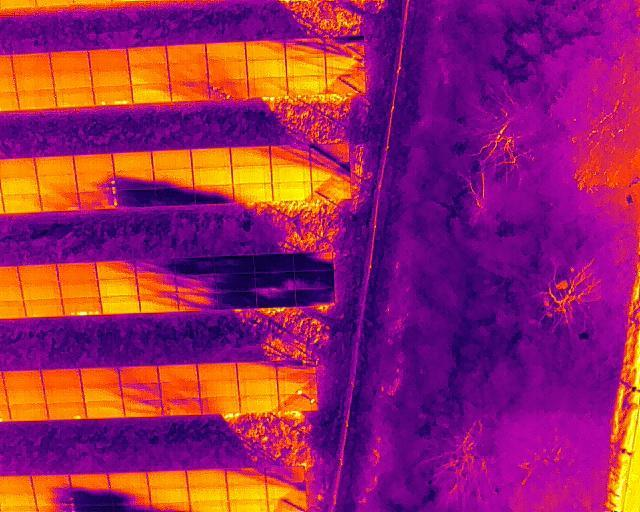Cell: (47, 403, 87, 420), (277, 379, 317, 395)
Cell-Multi: (93, 85, 133, 105), (63, 297, 101, 316), (278, 395, 318, 413)
No-Anomaly: (206, 59, 247, 79), (270, 182, 311, 202), (287, 76, 327, 96), (91, 66, 131, 86), (20, 281, 60, 301), (73, 154, 113, 174), (56, 87, 94, 108), (113, 152, 152, 172), (246, 58, 287, 77), (191, 148, 232, 167), (0, 158, 35, 180), (15, 71, 53, 91), (53, 67, 91, 87), (98, 277, 138, 296), (234, 184, 272, 204), (127, 46, 166, 65), (130, 64, 169, 83), (248, 77, 287, 96), (169, 63, 208, 82), (199, 380, 238, 399), (19, 264, 58, 283), (35, 157, 74, 176), (157, 365, 198, 383), (132, 84, 170, 103), (18, 90, 56, 109), (100, 295, 138, 314), (286, 58, 326, 76), (192, 167, 232, 185), (197, 364, 237, 382), (3, 371, 43, 389), (108, 471, 147, 489), (12, 54, 51, 72), (60, 279, 99, 297), (80, 368, 119, 386), (147, 470, 188, 487), (22, 299, 63, 316), (152, 152, 192, 169), (49, 51, 89, 68), (271, 166, 311, 183), (237, 363, 277, 380), (57, 262, 97, 279), (43, 387, 83, 404), (167, 44, 206, 61), (88, 50, 127, 67), (233, 166, 272, 183), (1, 195, 40, 212), (42, 370, 81, 387), (37, 176, 76, 193), (239, 394, 278, 411), (86, 401, 124, 418), (82, 386, 120, 403), (237, 380, 277, 396), (1, 178, 38, 195), (7, 388, 44, 405), (189, 486, 228, 502), (187, 469, 226, 485), (33, 474, 71, 490), (8, 404, 46, 420), (148, 487, 188, 502), (227, 486, 267, 501), (206, 44, 246, 58), (0, 475, 34, 490), (71, 474, 109, 487)
Shadowing: (270, 146, 310, 166), (170, 81, 210, 101), (310, 162, 350, 182), (325, 37, 364, 57), (284, 38, 325, 57), (159, 382, 200, 401), (276, 360, 317, 379), (137, 294, 178, 313), (264, 467, 304, 486), (119, 366, 159, 385), (176, 273, 216, 292), (293, 251, 333, 270), (232, 147, 271, 166), (294, 270, 333, 289), (177, 293, 218, 311), (255, 289, 296, 307), (254, 272, 295, 290), (154, 189, 195, 207), (325, 57, 365, 75), (39, 193, 79, 211), (194, 186, 234, 204), (154, 170, 194, 188), (135, 276, 177, 293), (211, 80, 248, 99), (309, 144, 348, 162), (327, 76, 366, 94), (76, 175, 115, 193), (244, 41, 285, 58), (214, 256, 255, 273), (78, 192, 119, 209), (253, 254, 294, 271), (160, 399, 203, 415), (311, 182, 351, 199), (134, 258, 174, 275), (115, 190, 155, 207), (114, 172, 154, 189), (214, 275, 256, 291), (226, 469, 265, 486), (121, 385, 162, 401), (173, 257, 214, 273), (296, 289, 333, 306), (95, 262, 134, 278), (200, 397, 241, 412), (218, 292, 256, 308), (108, 489, 150, 503), (34, 490, 73, 505), (266, 485, 305, 500), (124, 401, 162, 416), (73, 488, 109, 503)
